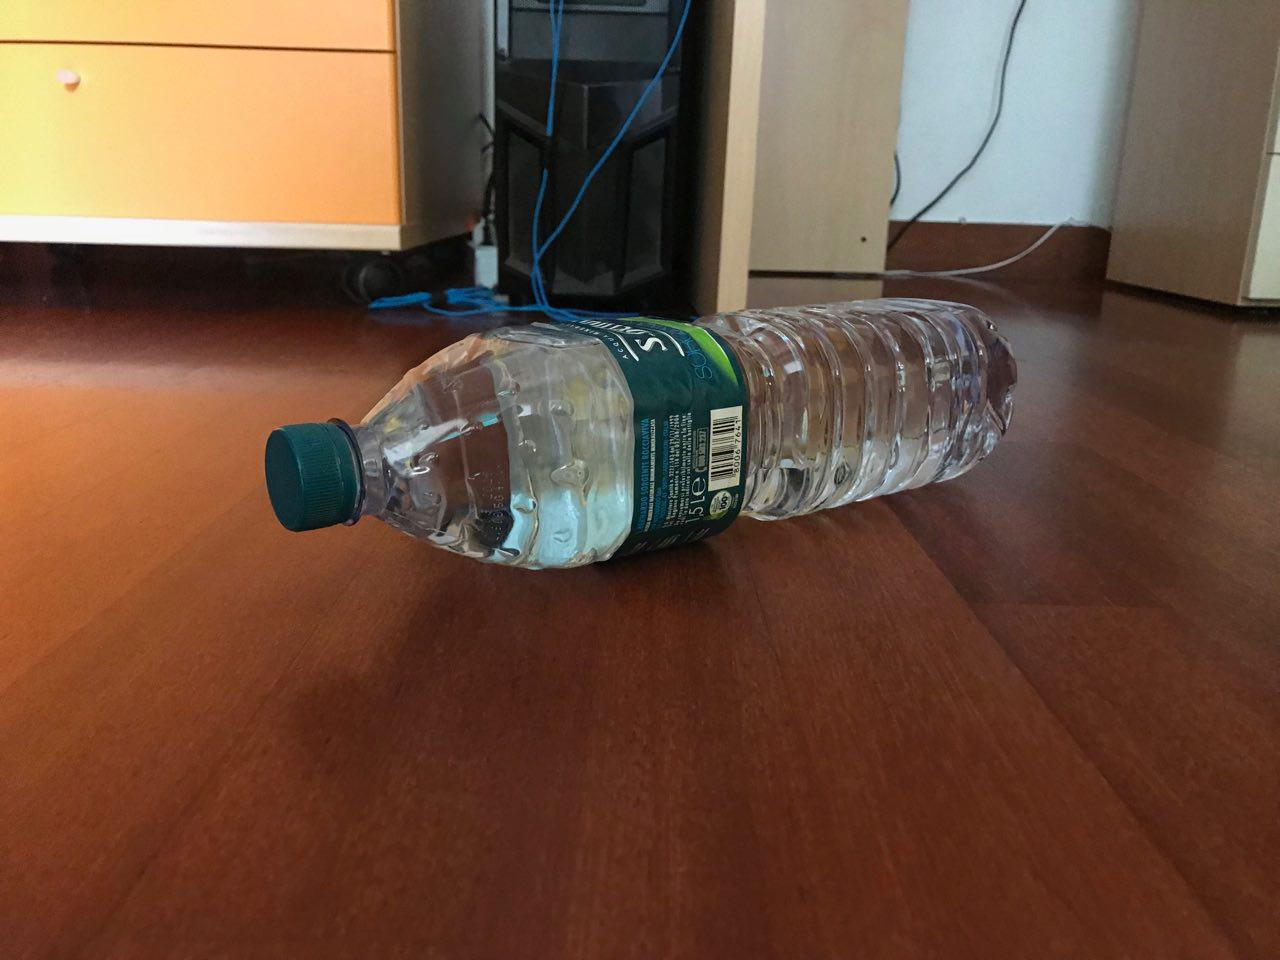san_bernardo: (263, 295, 1021, 572)
